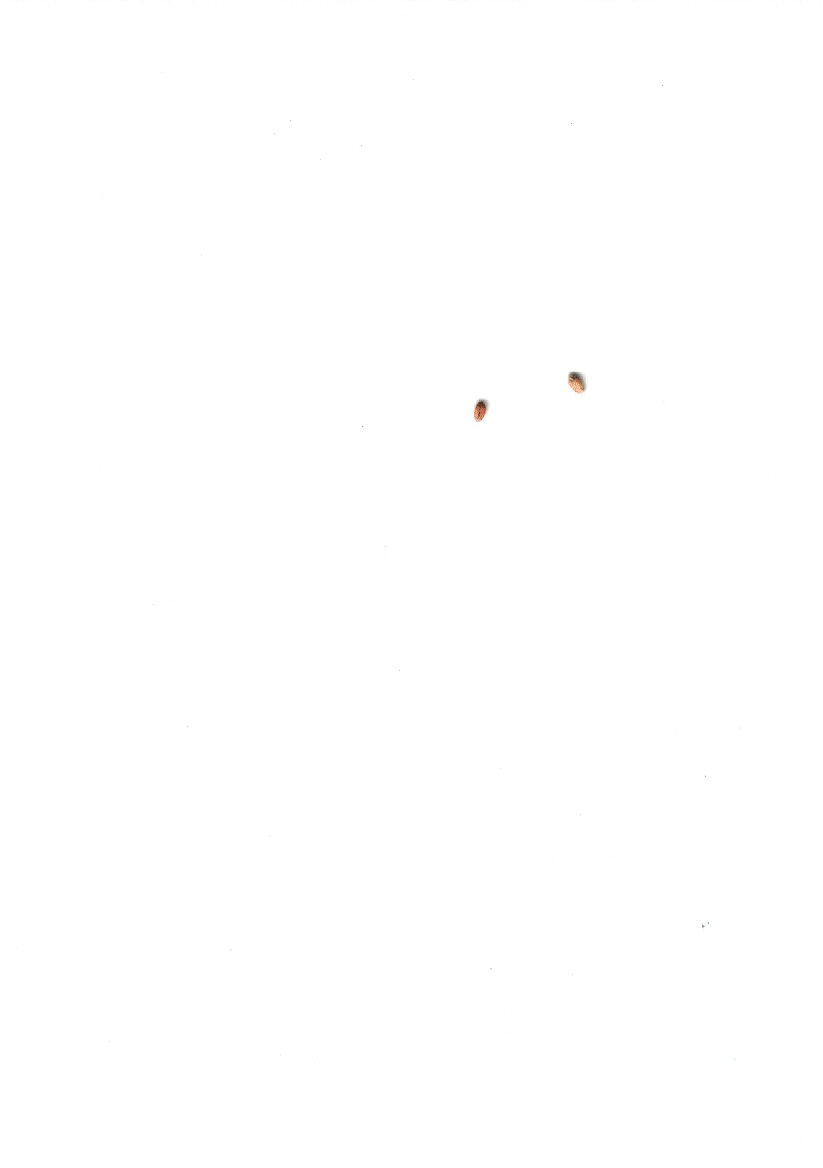grains: (558, 358, 597, 412), (460, 386, 499, 432)
